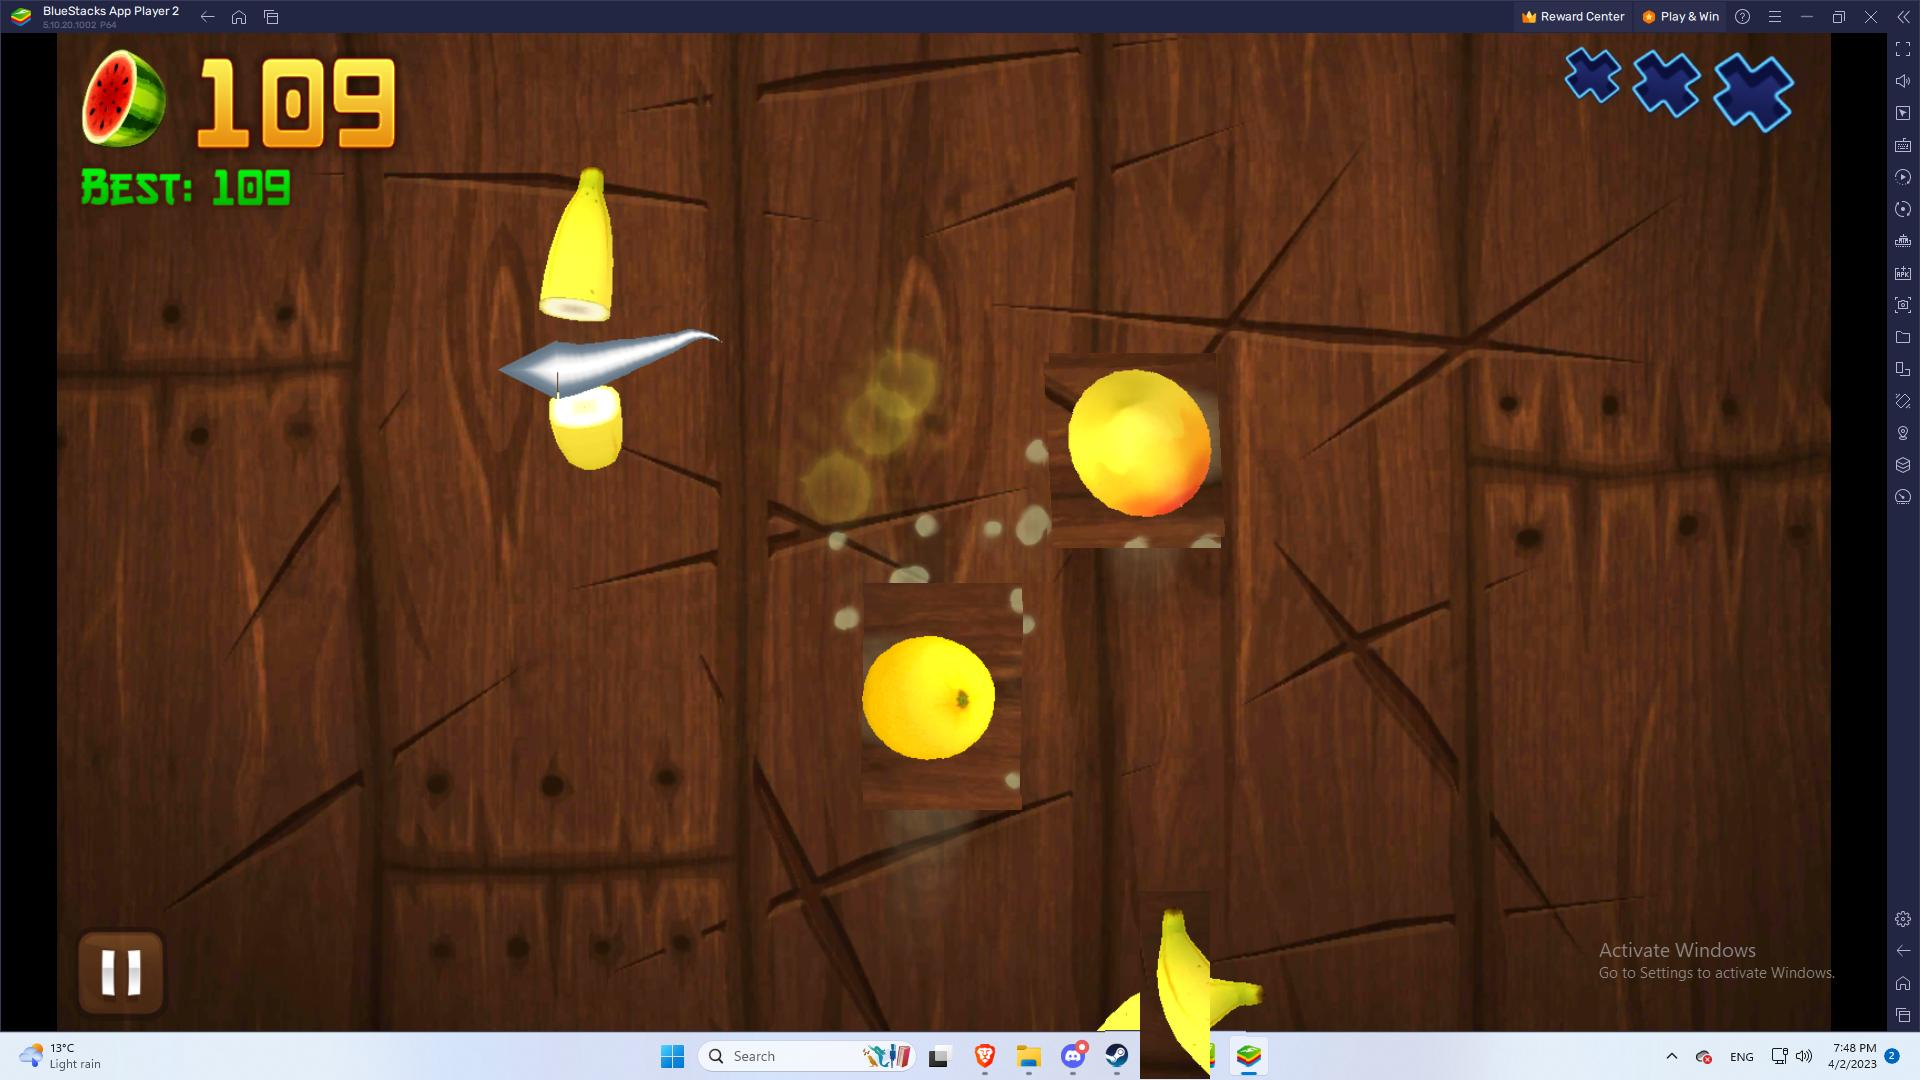fruit: (844, 600, 1040, 795), (1040, 356, 1229, 545), (1105, 926, 1246, 1067)
